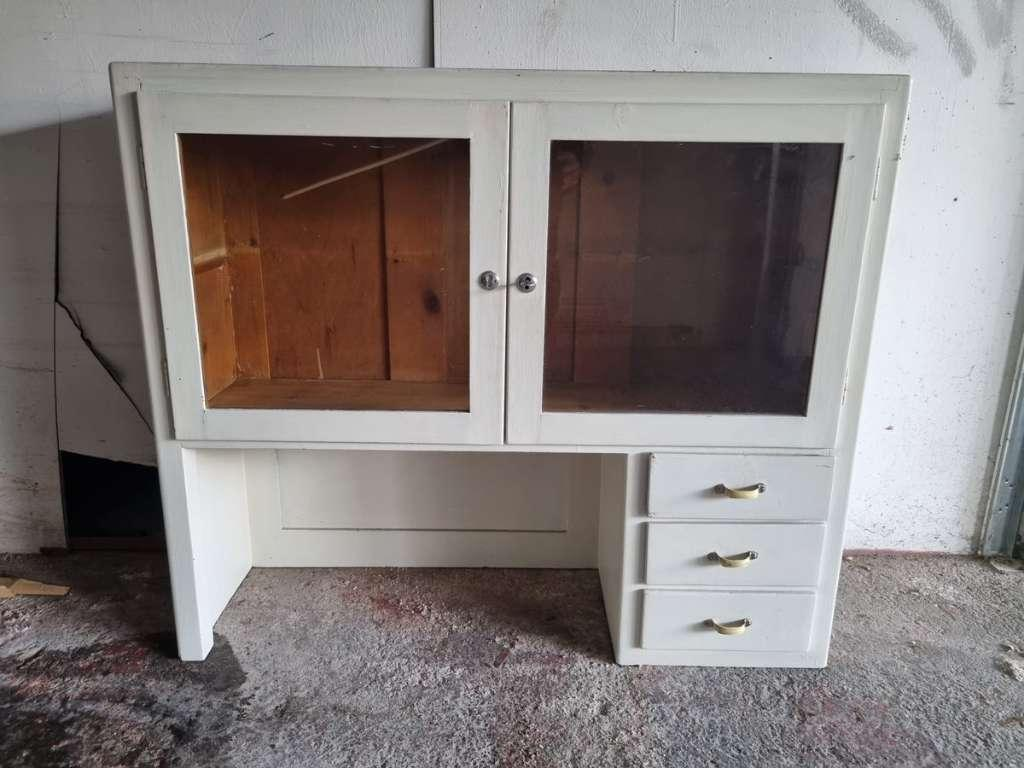cabinet_door: (156, 96, 512, 422), (513, 98, 848, 437), (651, 455, 829, 516), (645, 529, 813, 588), (652, 597, 812, 649)
handle: (706, 478, 771, 504), (699, 612, 755, 639), (706, 544, 761, 570), (478, 269, 503, 296), (512, 272, 536, 298)
